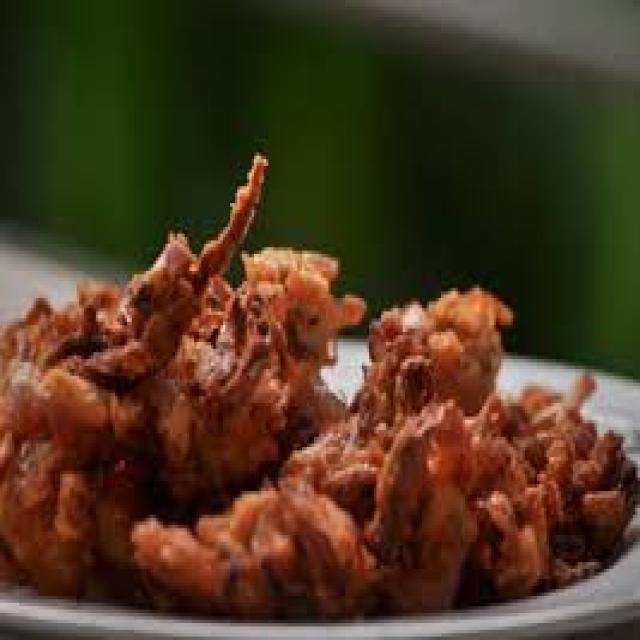BAJI: (0, 157, 638, 610)
